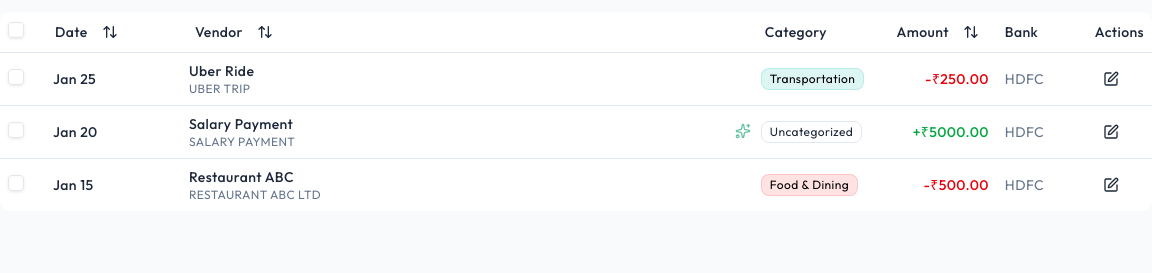
Scenario: TransactionList › selection › should select all transactions
Click the checkbox named "Select all transactions".
click(16, 30)  # box [8, 22, 24, 38]
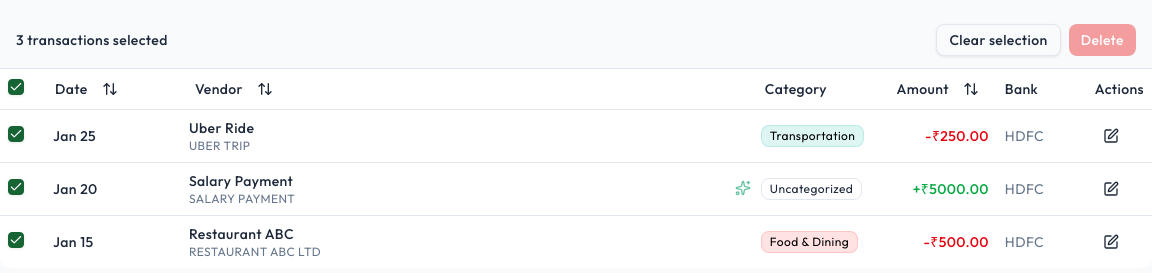
Expected: the checkbox named "Select all transactions" is checked, [8, 79, 24, 95]
Expected: the text "3 transactions selected" is shown, [16, 30, 168, 50]
Expected: the checkbox named "Select transaction from" is checked, [8, 126, 24, 142]
